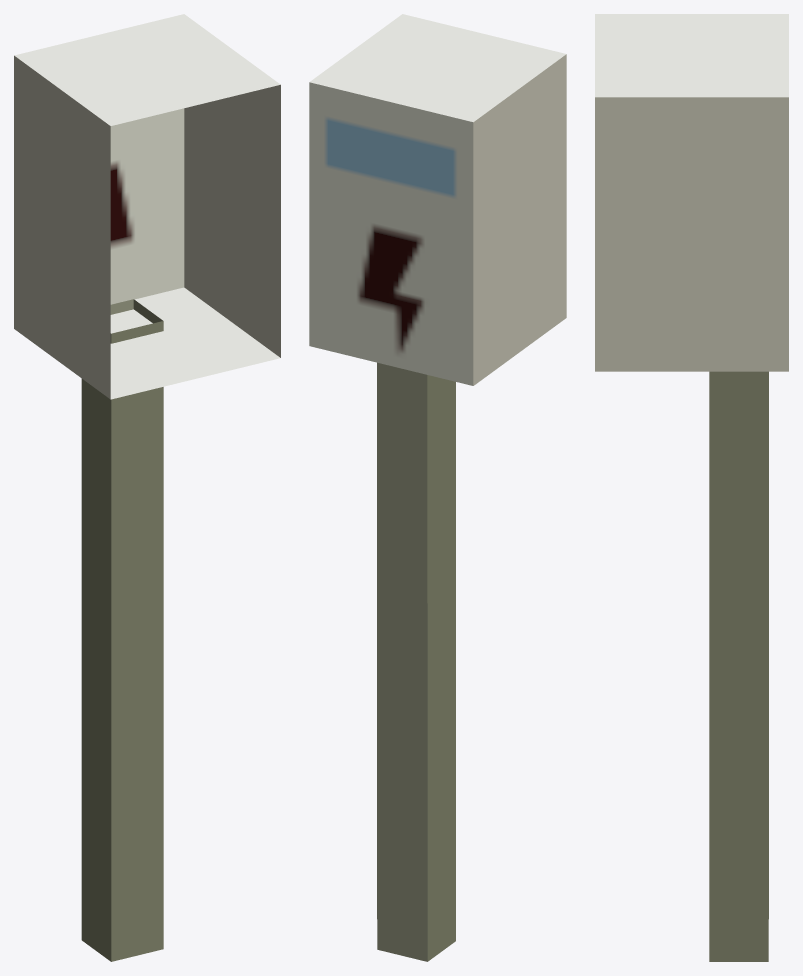
Rendered from PowerBox_06.fbx.
3 views of the same model, side by side, from view 1: azimuth 30°, elevation 25°; view 2: azimuth 150°, elevation 25°; view 3: azimuth 270°, elevation 25° (orthographic). The views are drawn at different scales.
Parts seen in each view (by area): view 1: PowerBox_06; view 2: PowerBox_06; view 3: PowerBox_06.
Part boxes in pixels (x1,y1,x2,y2): PowerBox_06: [14, 14, 280, 961]; PowerBox_06: [309, 14, 566, 961]; PowerBox_06: [595, 14, 788, 961].
Bounding box in the file's own units: 0.3573 × 1.79 × 0.3515.
